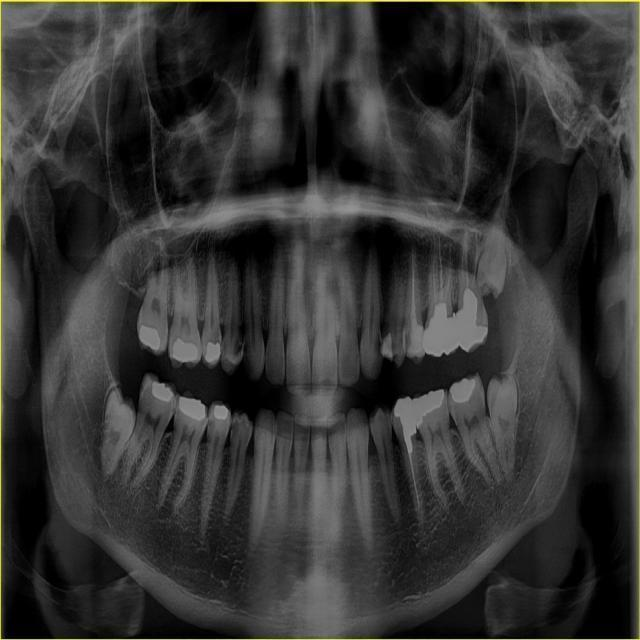Caries: (374, 331, 383, 361), (234, 333, 243, 358), (212, 328, 222, 350), (231, 415, 240, 439), (206, 418, 215, 441), (220, 338, 229, 357), (242, 335, 249, 358), (139, 380, 146, 398), (392, 353, 399, 367), (174, 408, 179, 421)
Filling: (455, 289, 488, 352), (423, 303, 460, 357), (394, 397, 417, 454), (412, 389, 444, 429), (407, 317, 425, 364), (179, 395, 206, 421), (173, 339, 198, 363), (450, 378, 475, 401), (139, 325, 160, 351), (151, 381, 173, 403), (379, 332, 393, 362), (204, 342, 220, 361), (213, 405, 228, 419)
Root Canal Treatment: (409, 453, 419, 507), (443, 242, 450, 302), (412, 248, 417, 328), (438, 236, 443, 306), (465, 229, 469, 289), (472, 246, 477, 289), (433, 261, 437, 304), (462, 246, 466, 282)
impacted tooth: (100, 389, 137, 482), (488, 376, 519, 480)
